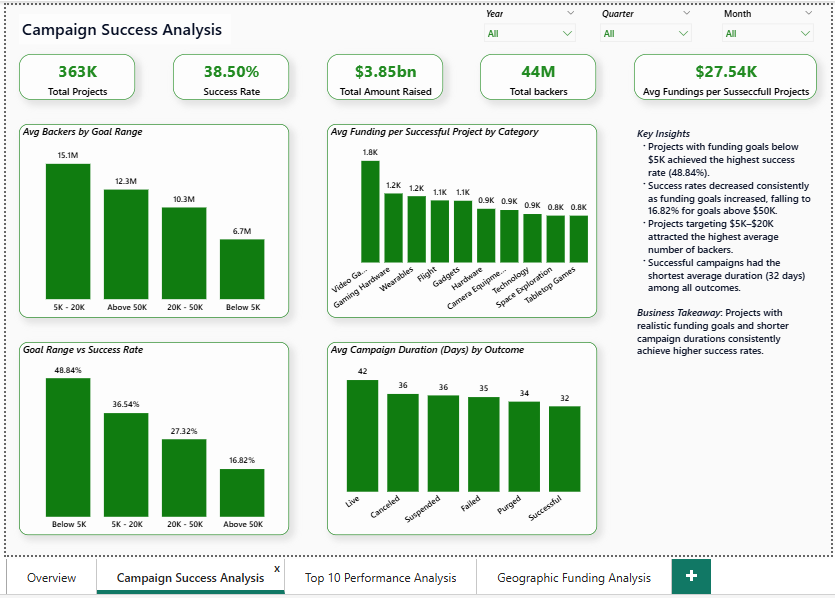

The page's visual inventory and layout, read from the dashboard file:
{"tool":"powerbi","page":{"name":"Campaign Success Analysis","canvas":[1350,900],"ordinal":1},"visuals":[{"type":"card","title":"Total Backers ","fields":{"Values":["Measures Table.Total backers"]},"box":[776,79.6,190,75],"z":0},{"type":"card","title":"Total Amount Raised","fields":{"Values":["Measures Table.Total Amount Raised"]},"box":[524.5,80.2,190,75],"z":1000},{"type":"card","title":"Avg Fundings per Susseccfull Projects","fields":{"Values":["Measures Table.Avg Fundings per Susseccfull Projects"]},"box":[1027.6,80.2,299.5,75.3],"z":2000},{"type":"clusteredColumnChart","title":"Avg Funding per Successful Project by Category","fields":{"Y":["Measures Table.Avg Backers per Successful Projects"],"Category":["Category.name"]},"box":[525,195,441.7,316.7],"z":3000},{"type":"columnChart","title":"Avg Backers by Goal Range","fields":{"Category":["Projects.Goal Range"],"Y":["Measures Table.Total backers"]},"box":[21.7,195,441.7,316.7],"z":4000},{"type":"slicer","fields":{"Values":["Projects.created_at_new.Variation.Date Hierarchy.Year"]},"box":[777.3,3.3,160,75],"z":5000},{"type":"slicer","fields":{"Values":["Projects.created_at_new.Variation.Date Hierarchy.Quarter"]},"box":[967.1,3.3,160,75],"z":6000},{"type":"card","title":"Total Projects","fields":{"Values":["Measures Table.Total Projects"]},"box":[21.3,80.2,190,75.3],"z":7000},{"type":"card","title":"Success Rate","fields":{"Values":["Measures Table.Success Rate"]},"box":[272.9,80.5,190,75],"z":8000},{"type":"columnChart","title":"Avg Campaign Duration (Days) by Outcome","fields":{"Category":["Projects.state"],"Y":["Measures Table.Avg Campaign Duration"]},"box":[525,551.7,441.7,316],"z":9000},{"type":"clusteredColumnChart","title":"Goal Range vs Success Rate","fields":{"Category":["Projects.Goal Range"],"Y":["Measures Table.Success Rate"]},"box":[21.7,551.7,441.7,316],"z":10000},{"type":"textbox","box":[21.7,15,346.7,50],"z":11000},{"type":"slicer","title":"Month","fields":{"Values":["Projects.created_at_new.Variation.Date Hierarchy.Month"]},"box":[1166.7,3.3,160,75],"z":12000},{"type":"textbox","box":[1027.6,194.7,299.5,672.5],"z":13000}]}

Visuals, with their boxes on the page's 1350x900 design canvas (x1, y1, x2, y2). These are canvas units, not pixel positions in the 835x598 screenshot, which may show the page scaled, cropped or inside an application window:
"Total Backers " card: Rect(776, 80, 966, 155)
"Total Amount Raised" card: Rect(524, 80, 714, 155)
"Avg Fundings per Susseccfull Projects" card: Rect(1028, 80, 1327, 156)
"Avg Funding per Successful Project by Category" clusteredColumnChart: Rect(525, 195, 967, 512)
"Avg Backers by Goal Range" columnChart: Rect(22, 195, 463, 512)
slicer - Projects.created_at_new.Variation.Date Hierarchy.Year: Rect(777, 3, 937, 78)
slicer - Projects.created_at_new.Variation.Date Hierarchy.Quarter: Rect(967, 3, 1127, 78)
"Total Projects" card: Rect(21, 80, 211, 156)
"Success Rate" card: Rect(273, 80, 463, 156)
"Avg Campaign Duration (Days) by Outcome" columnChart: Rect(525, 552, 967, 868)
"Goal Range vs Success Rate" clusteredColumnChart: Rect(22, 552, 463, 868)
textbox: Rect(22, 15, 368, 65)
"Month" slicer: Rect(1167, 3, 1327, 78)
textbox: Rect(1028, 195, 1327, 867)
